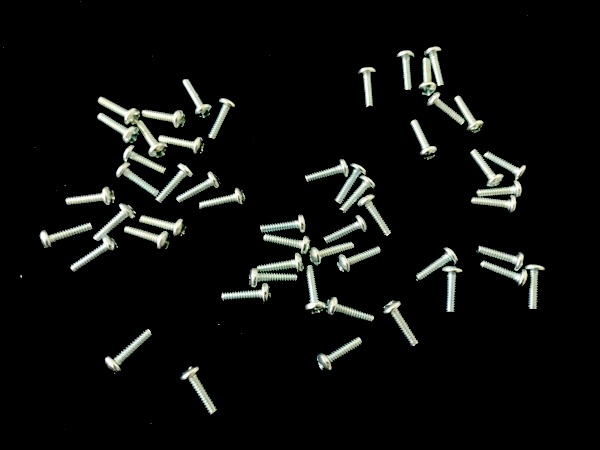shortscrew: (104, 328, 153, 376), (180, 364, 218, 416), (71, 235, 120, 272), (383, 301, 420, 348), (317, 337, 363, 374), (94, 203, 137, 242), (116, 163, 160, 198), (156, 164, 194, 204), (39, 224, 93, 252), (358, 195, 393, 238), (415, 248, 459, 282), (340, 176, 377, 215), (177, 171, 221, 203), (322, 215, 368, 245), (96, 113, 139, 145), (335, 163, 367, 205), (336, 246, 382, 275), (470, 149, 504, 188), (326, 297, 375, 324), (124, 145, 168, 175), (96, 97, 141, 126), (182, 78, 213, 120), (427, 92, 465, 126), (485, 152, 528, 182), (481, 261, 528, 288), (476, 246, 526, 271), (209, 98, 237, 142), (64, 187, 116, 210), (309, 241, 355, 267), (456, 95, 485, 136), (137, 121, 169, 158), (125, 227, 170, 253), (411, 119, 438, 162), (221, 284, 272, 306), (304, 265, 326, 316), (199, 187, 247, 210), (305, 159, 349, 184), (140, 216, 187, 239), (523, 264, 546, 311), (248, 268, 299, 289), (158, 135, 204, 157), (257, 253, 305, 274), (264, 235, 312, 256), (140, 110, 186, 131), (260, 214, 308, 234), (443, 267, 463, 314), (424, 47, 446, 88), (471, 196, 518, 215), (358, 67, 378, 111), (396, 50, 415, 93), (477, 180, 523, 197), (418, 58, 436, 98)
